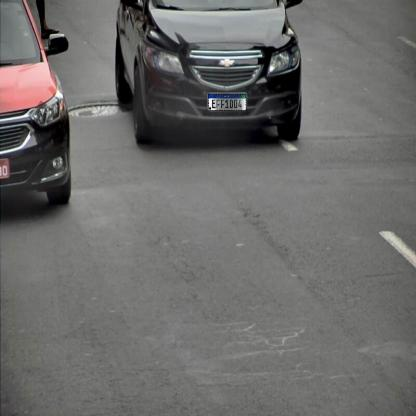PlacaM: (208, 94, 246, 111)
